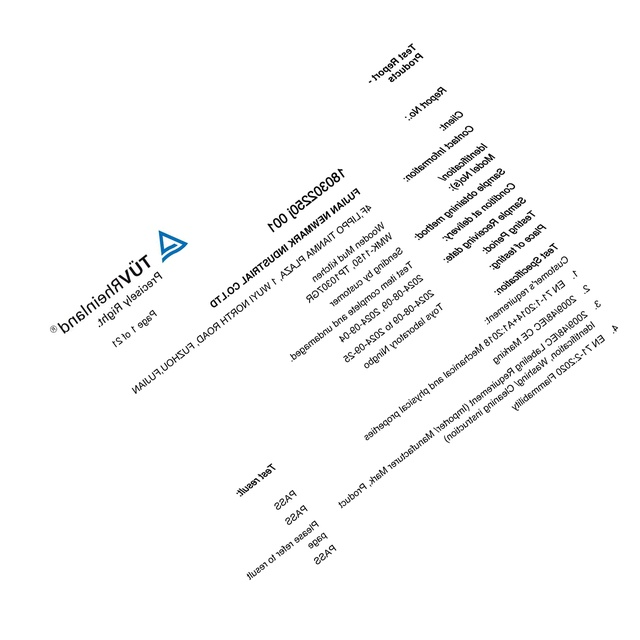tuv_rheinland: (47, 225, 190, 337)
